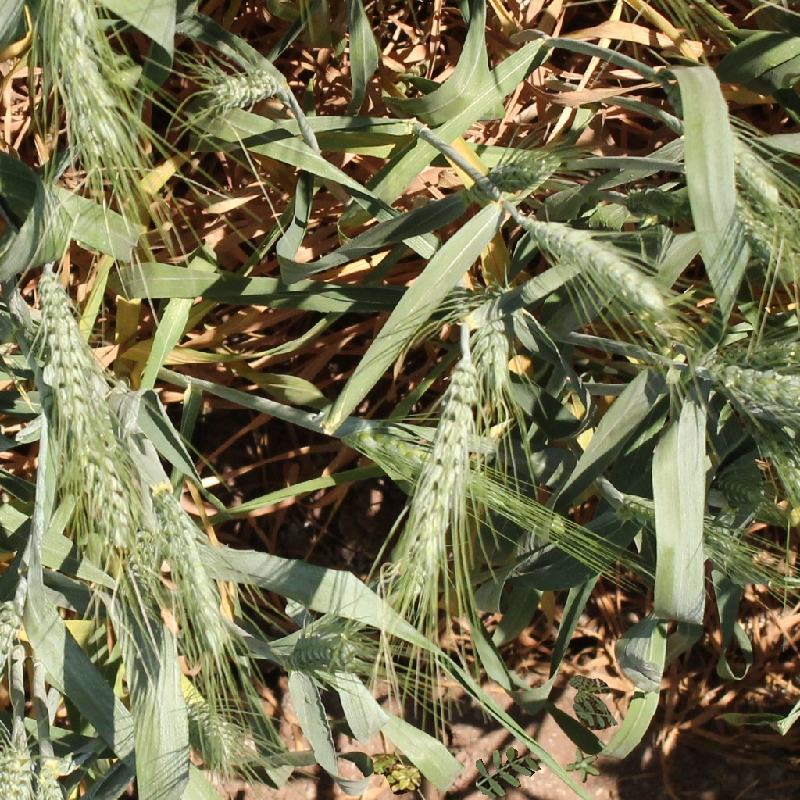spikelet: (34, 267, 137, 545), (396, 353, 485, 594), (349, 427, 538, 518), (523, 215, 672, 316), (151, 482, 230, 651), (44, 1, 122, 159), (690, 349, 800, 414), (731, 200, 799, 288), (462, 290, 516, 396), (722, 127, 786, 211), (180, 683, 242, 764), (1, 580, 32, 710), (484, 145, 562, 194), (209, 67, 283, 109), (289, 629, 357, 673), (713, 469, 771, 513), (1, 742, 37, 800), (31, 754, 71, 800)
weed: (476, 747, 541, 800), (569, 675, 618, 730), (369, 753, 424, 789), (566, 748, 601, 783)
